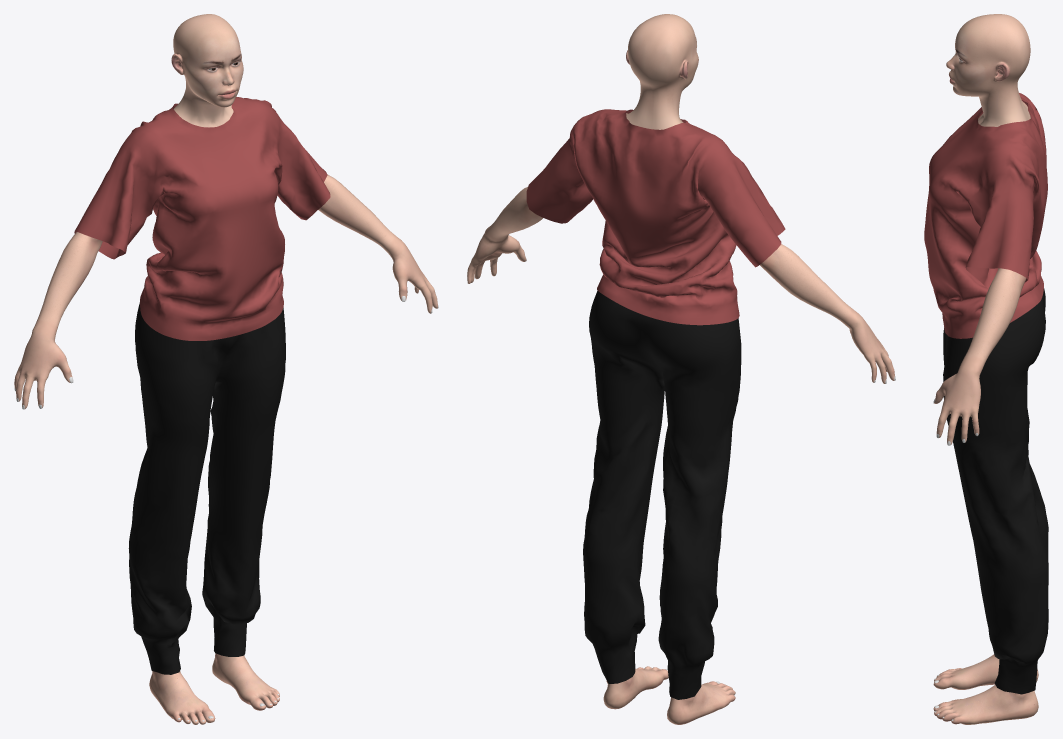
File: cloths.glb
3 renders of one model, left to right at view 1: azimuth 30°, elevation 25°; view 2: azimuth 150°, elevation 25°; view 3: azimuth 270°, elevation 25°, orthographic.
Parts seen in each view (by area): view 1: pink tshirt _F, base_female; view 2: pink tshirt _F, base_female; view 3: pink tshirt _F, base_female.
Boxes of the visible parts, x1,y1,x2,y2 form: pink tshirt _F: (74,97,330,674); base_female: (14,14,438,724); pink tshirt _F: (526,109,785,699); base_female: (467,14,895,724); pink tshirt _F: (924,93,1048,694); base_female: (933,14,1038,724).
Bounding box in the file's own units: 1.06 × 1.66 × 0.2737.
11 materials, 4 textured.
